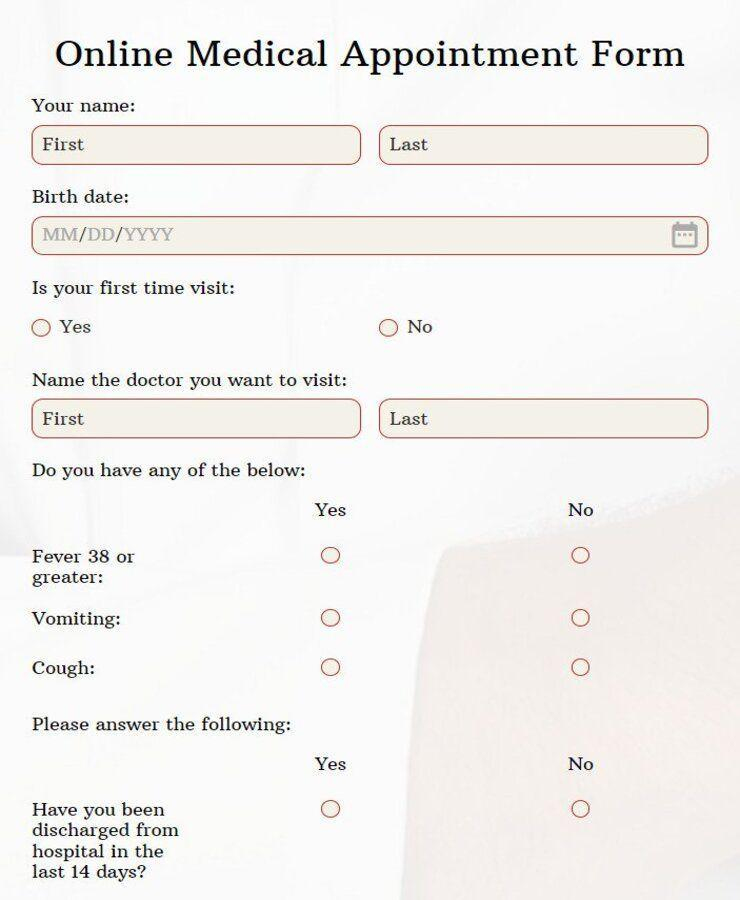input: (26, 208, 715, 265), (376, 120, 712, 174), (28, 123, 365, 174), (379, 396, 713, 443), (32, 398, 362, 440)
label: (25, 794, 198, 897), (21, 709, 299, 740), (25, 456, 312, 484), (27, 546, 146, 598), (31, 278, 240, 305), (28, 370, 349, 387), (26, 603, 130, 634), (31, 94, 150, 116), (296, 491, 356, 529), (25, 190, 135, 208), (551, 492, 608, 524), (560, 751, 609, 781), (29, 661, 97, 682), (311, 746, 354, 776), (403, 315, 439, 348), (59, 312, 98, 342)
radio: (373, 315, 400, 345), (568, 657, 598, 682), (30, 314, 54, 345), (321, 793, 346, 821), (319, 544, 348, 568), (571, 799, 598, 824), (321, 606, 345, 633), (569, 544, 598, 566), (319, 656, 343, 682), (569, 606, 595, 630)
